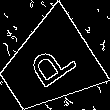P_SW: (18, 37, 77, 95)
